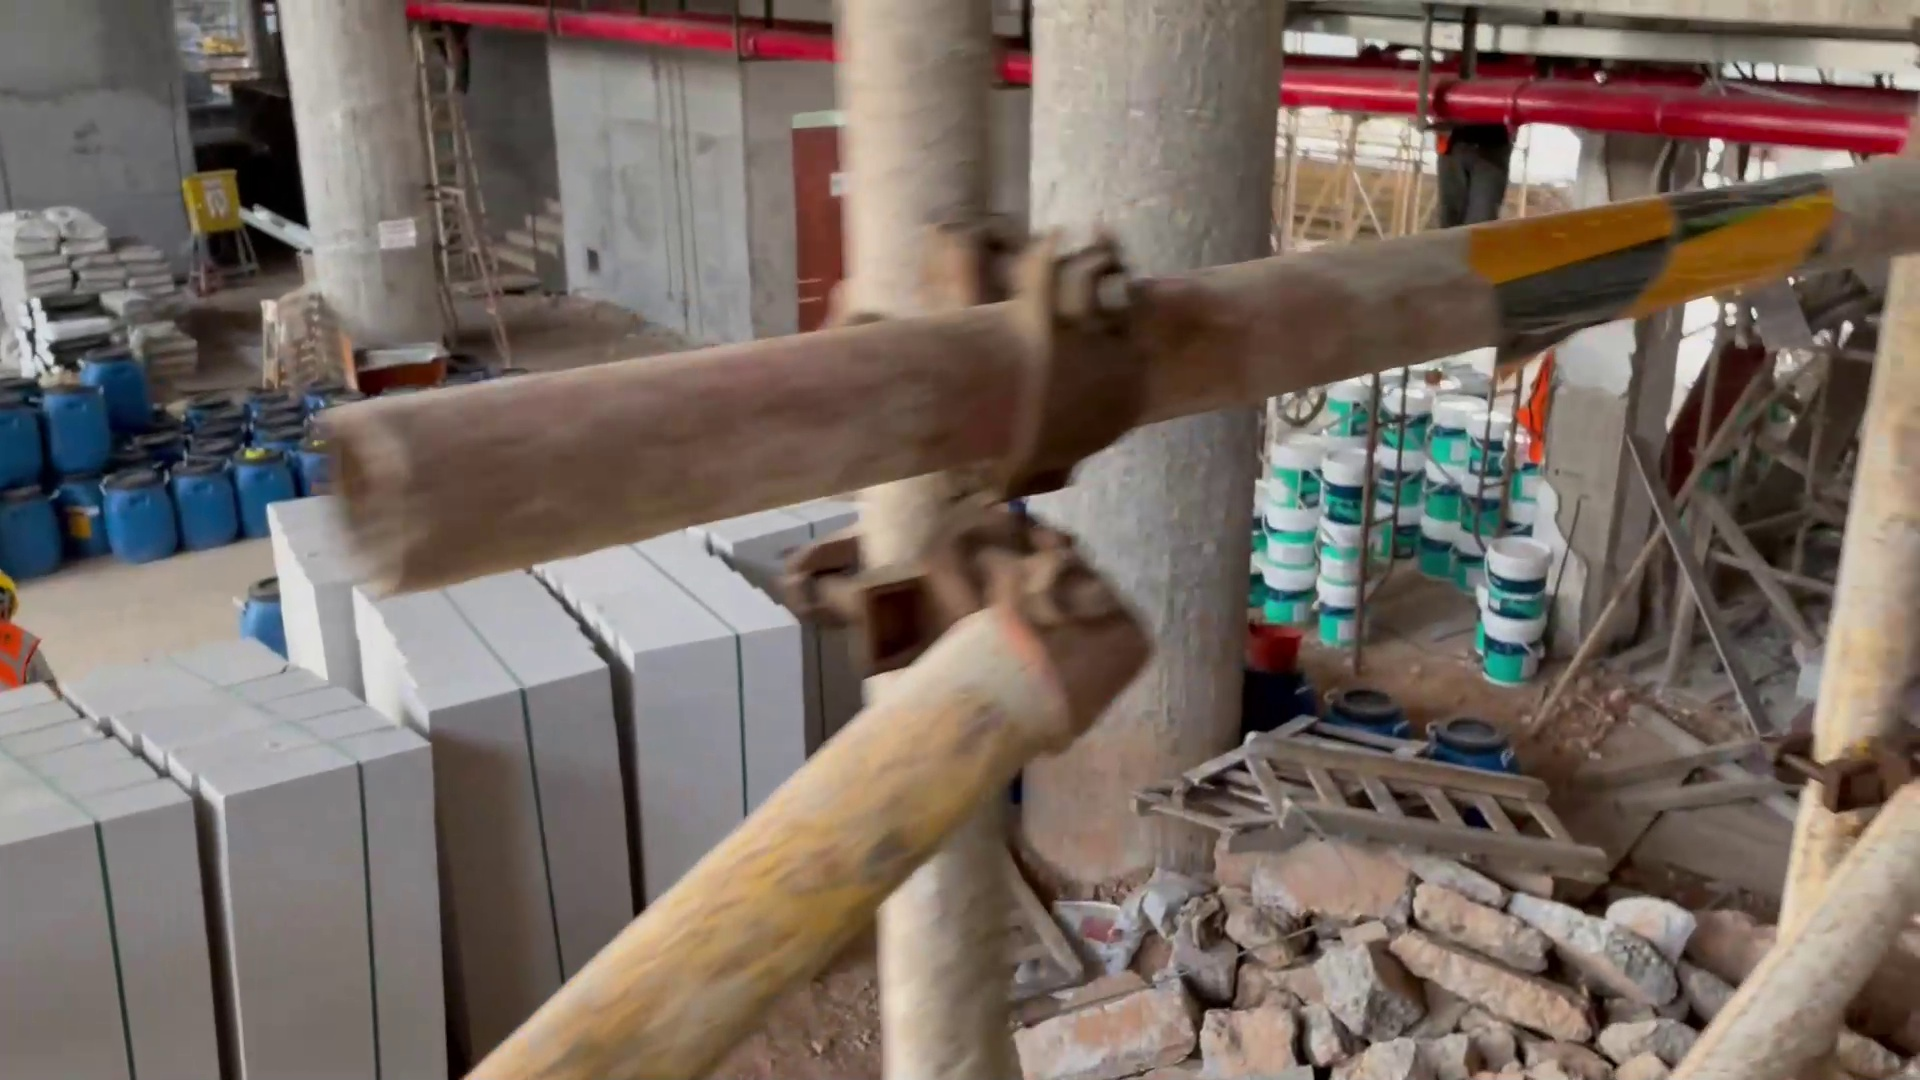brick: (255, 482, 852, 1029), (1, 641, 449, 1073)
ebox: (178, 165, 262, 296)
helmet: (1, 565, 19, 612)
person: (1415, 53, 1497, 236), (4, 564, 67, 710)
vest: (1518, 350, 1560, 469), (1, 623, 45, 689)
